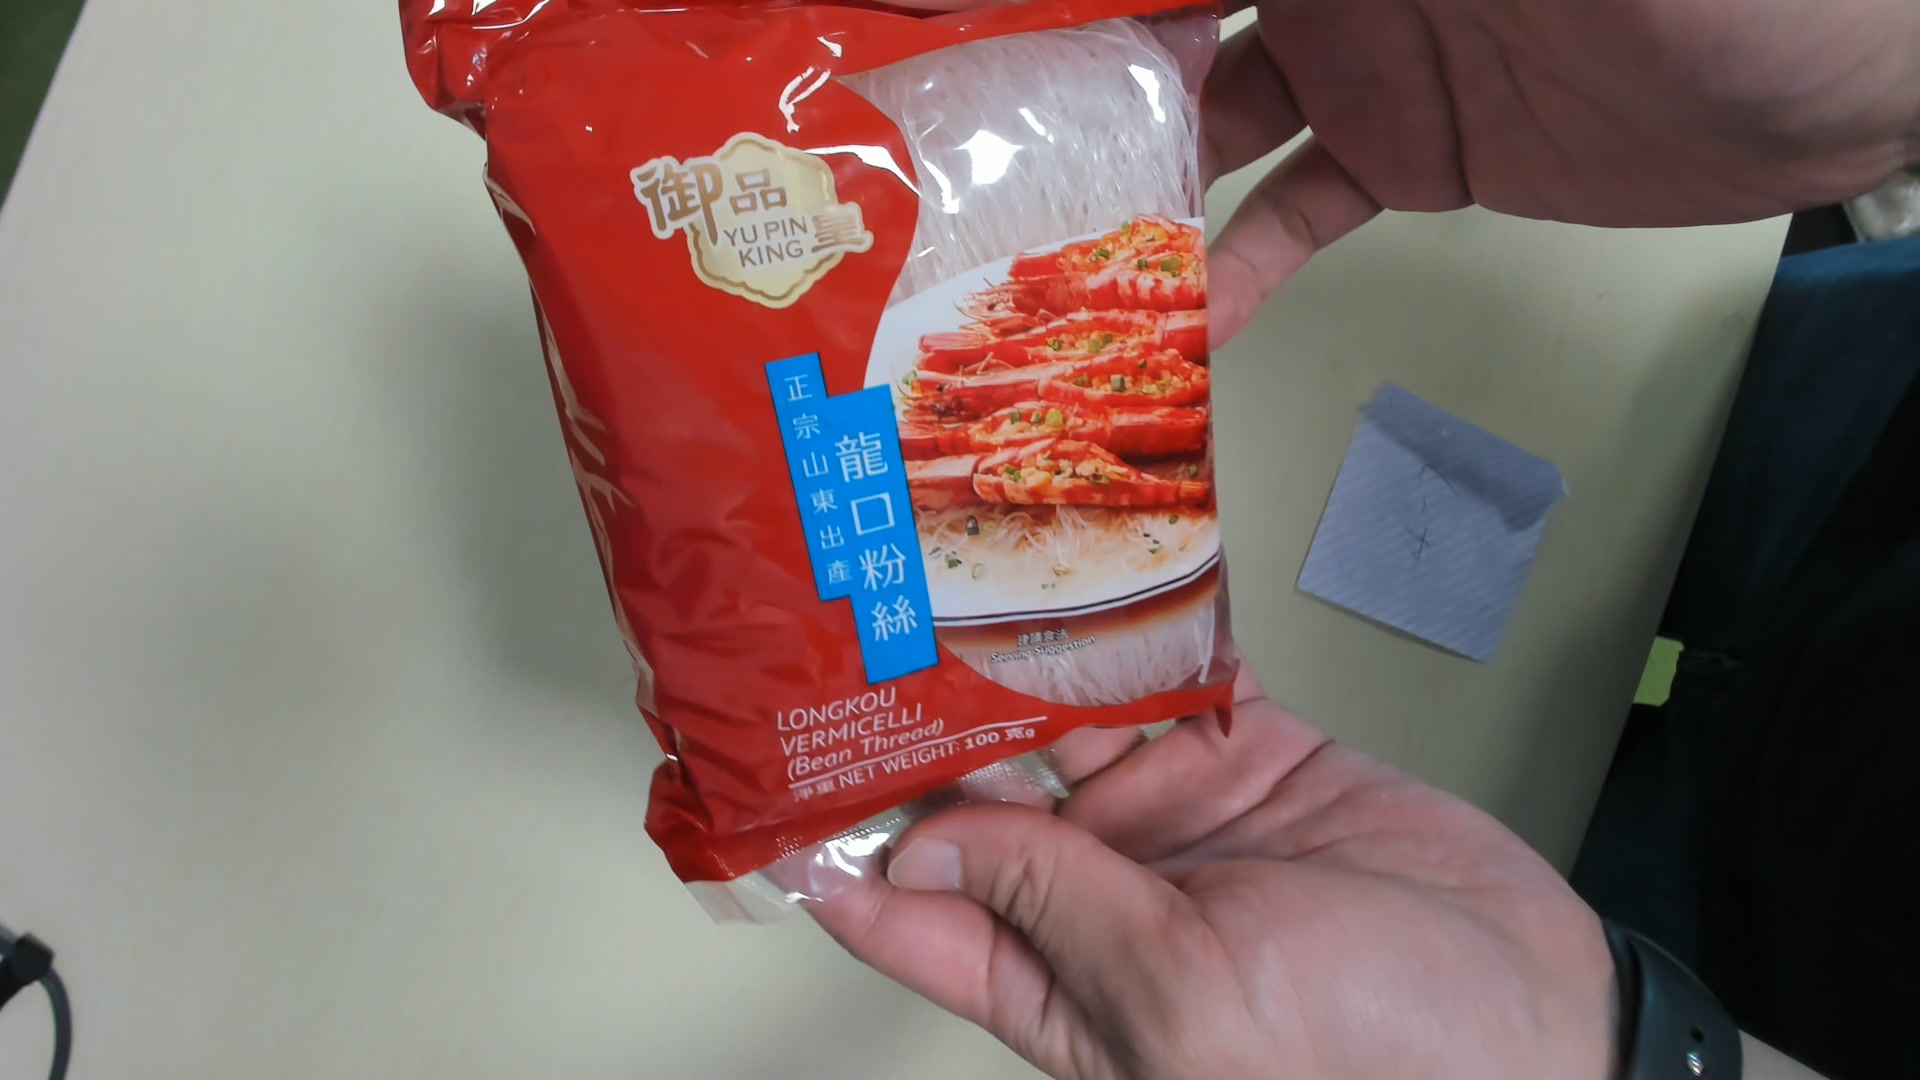BeeHoonVermicelli_100-199g_NonHalal_NonHealthy: (484, 18, 1233, 865)
